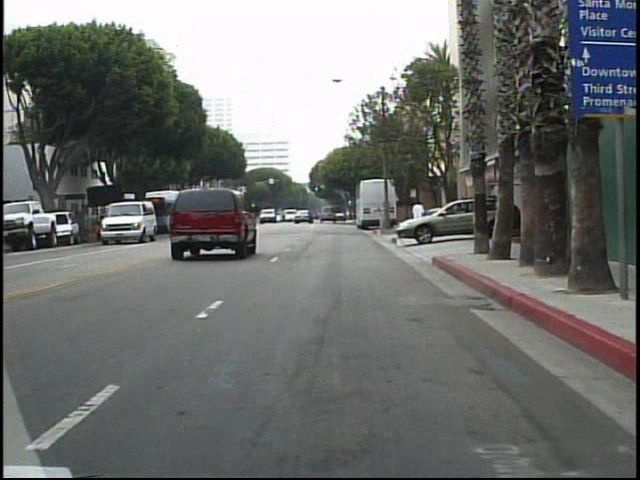person: (408, 196, 428, 237)
